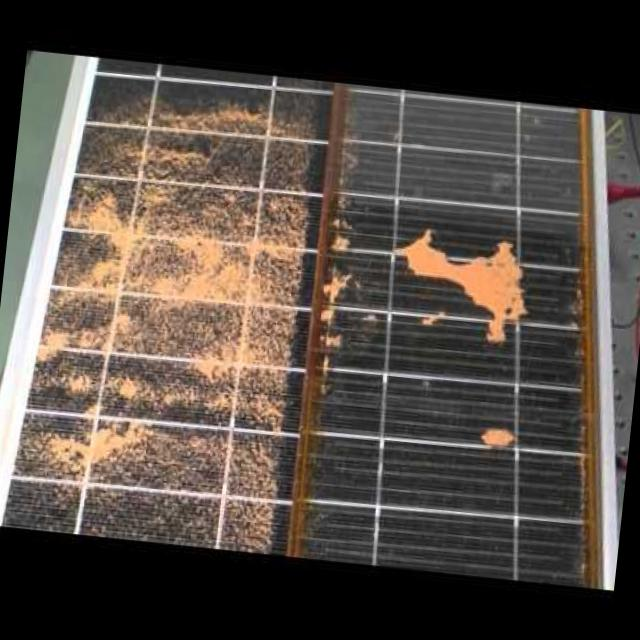faulty: (0, 62, 329, 560), (289, 88, 606, 586)
